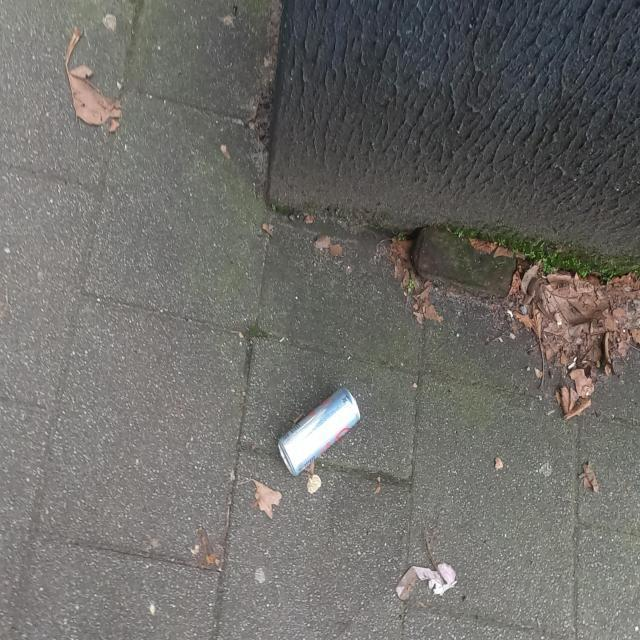Can-Metal: (274, 383, 362, 479)
